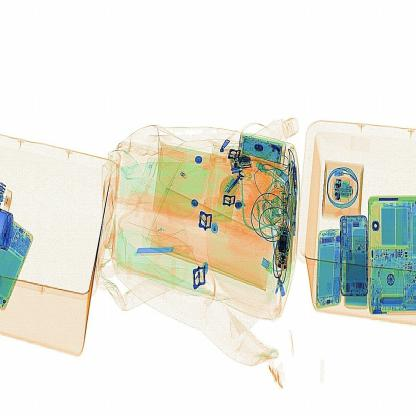pliers: (132, 239, 196, 272)
